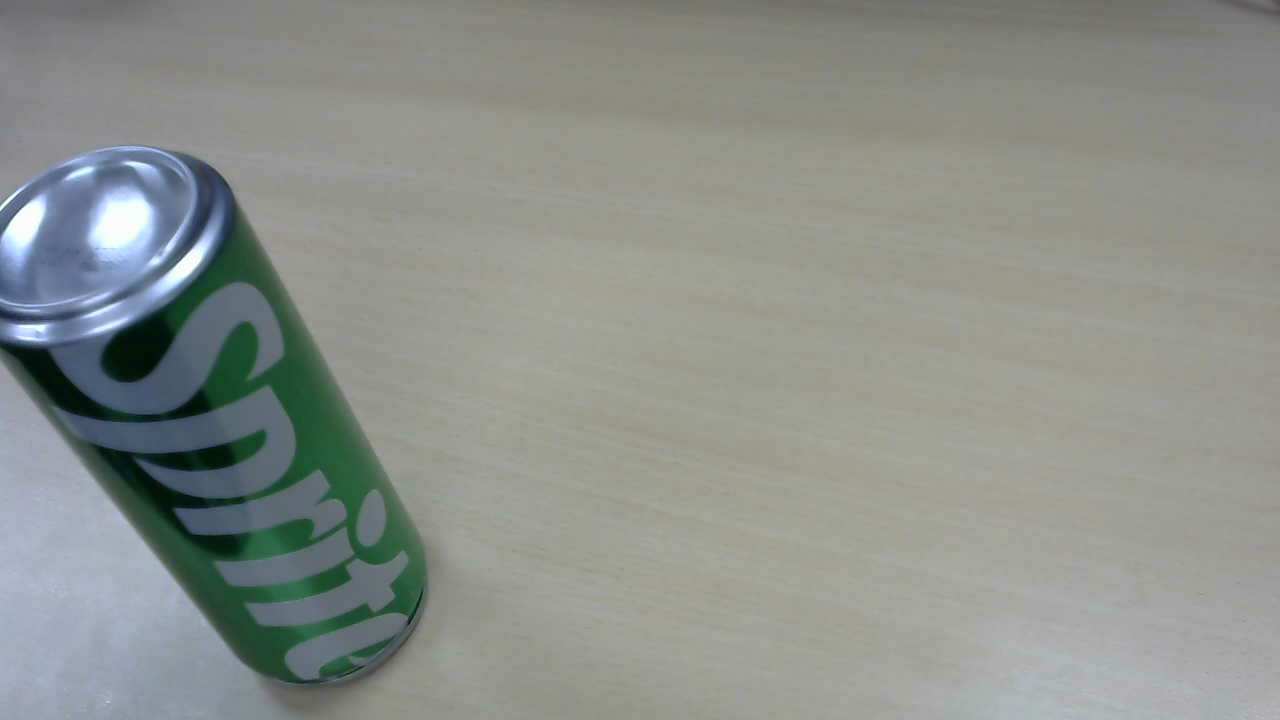Sprite: (7, 166, 436, 685)
